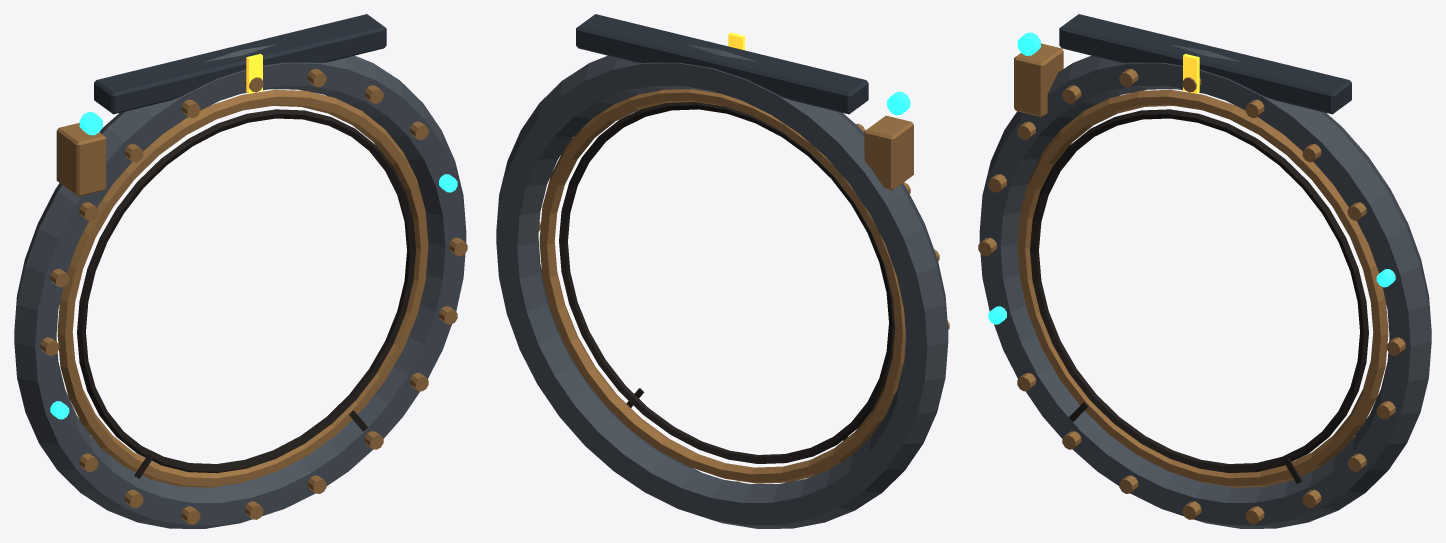
The model's file is runtime.glb.
3 renders of one model, left to right at view 1: azimuth 30°, elevation 25°; view 2: azimuth 150°, elevation 25°; view 3: azimuth 330°, elevation 25°, orthographic.
Visible parts, largest first — view 1: kinetic-tide-bearing-flange-v06_plate_nocol, kinetic-tide-bearing-flange-v06_bronze_nocol, kinetic-tide-bearing-flange-v06_weardark_nocol, kinetic-tide-bearing-flange-v06_steel_nocol, kinetic-tide-bearing-flange-v06_cyansignal_nocol; view 2: kinetic-tide-bearing-flange-v06_plate_nocol, kinetic-tide-bearing-flange-v06_bronze_nocol, kinetic-tide-bearing-flange-v06_steel_nocol, kinetic-tide-bearing-flange-v06_weardark_nocol; view 3: kinetic-tide-bearing-flange-v06_plate_nocol, kinetic-tide-bearing-flange-v06_bronze_nocol, kinetic-tide-bearing-flange-v06_weardark_nocol, kinetic-tide-bearing-flange-v06_steel_nocol, kinetic-tide-bearing-flange-v06_cyansignal_nocol.
Boxes of the visible parts, x1,y1,x2,y2 form: kinetic-tide-bearing-flange-v06_plate_nocol: [14, 44, 466, 528]; kinetic-tide-bearing-flange-v06_bronze_nocol: [40, 69, 467, 524]; kinetic-tide-bearing-flange-v06_weardark_nocol: [77, 109, 415, 478]; kinetic-tide-bearing-flange-v06_steel_nocol: [94, 14, 386, 114]; kinetic-tide-bearing-flange-v06_cyansignal_nocol: [50, 112, 457, 419]; kinetic-tide-bearing-flange-v06_plate_nocol: [496, 44, 948, 528]; kinetic-tide-bearing-flange-v06_bronze_nocol: [539, 89, 949, 483]; kinetic-tide-bearing-flange-v06_steel_nocol: [576, 14, 868, 114]; kinetic-tide-bearing-flange-v06_weardark_nocol: [559, 102, 895, 463]; kinetic-tide-bearing-flange-v06_plate_nocol: [979, 44, 1431, 528]; kinetic-tide-bearing-flange-v06_bronze_nocol: [978, 43, 1405, 524]; kinetic-tide-bearing-flange-v06_weardark_nocol: [1030, 109, 1368, 483]; kinetic-tide-bearing-flange-v06_steel_nocol: [1059, 14, 1351, 114]; kinetic-tide-bearing-flange-v06_cyansignal_nocol: [988, 32, 1395, 324].
Size of the model in its own units: 7.24 by 7.31 by 0.7538.
